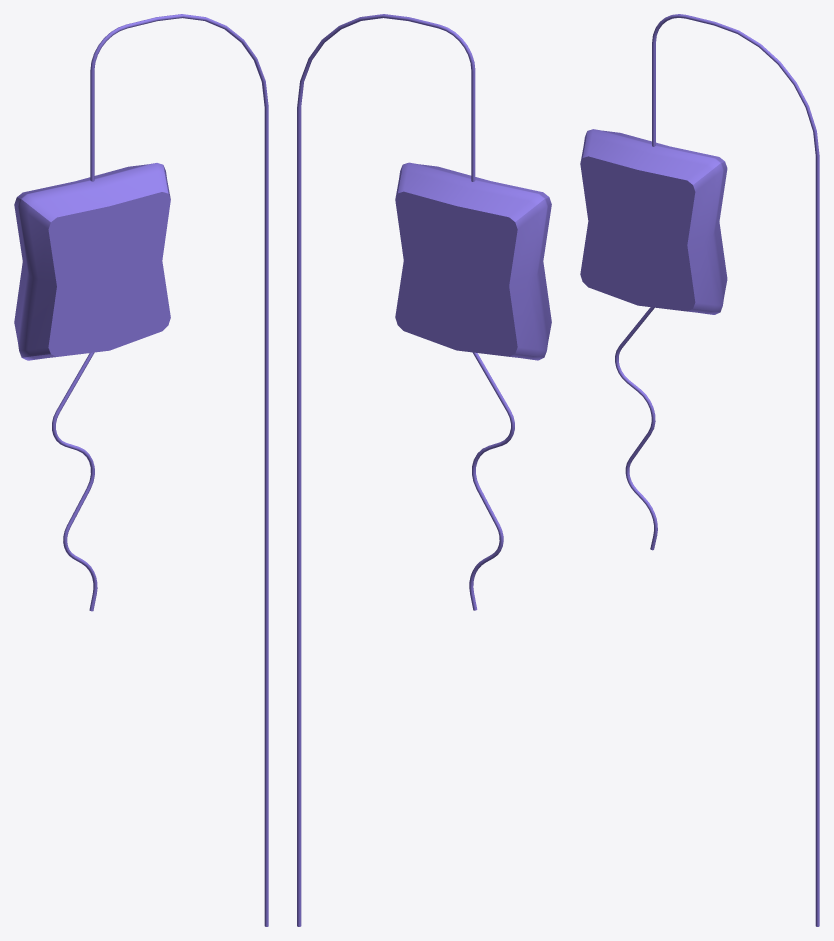
Rendered from suero.FBX.
The picture shows the model from 3 angles, left to right: view 1: azimuth 30°, elevation 25°; view 2: azimuth 150°, elevation 25°; view 3: azimuth 330°, elevation 25°; orthographic projection. The views are drawn at different scales.
Parts seen in each view (by area): view 1: Line001; view 2: Line001; view 3: Line001.
Part boxes in pixels (left/top/right/bottom): Line001: left=14, top=14, right=268, bottom=926; Line001: left=297, top=14, right=551, bottom=926; Line001: left=580, top=14, right=819, bottom=926.
Size of the model in its own units: 69.59 by 249 by 16.52.
